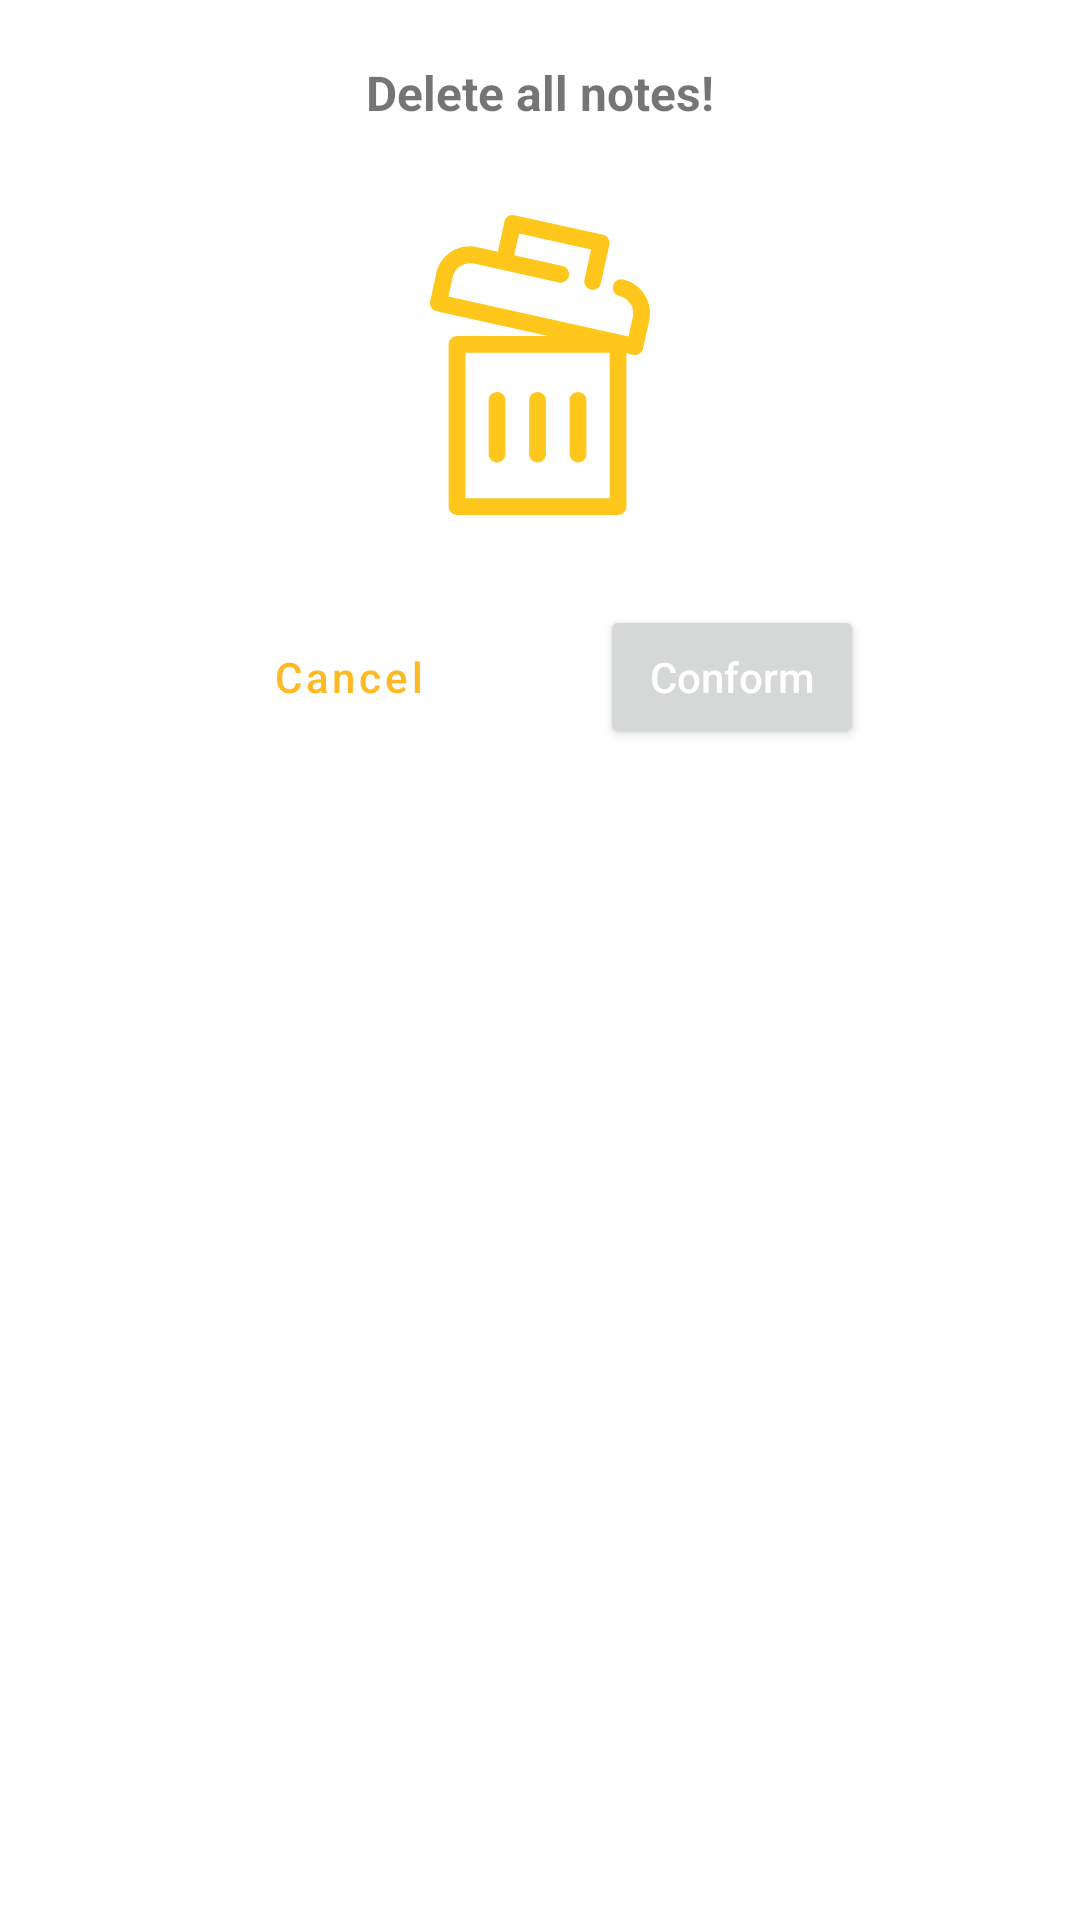

Where icons sit on this 1080×1920 app screen, as (x1, y1, x2, y2):
delete bin: (430, 215, 650, 515)
